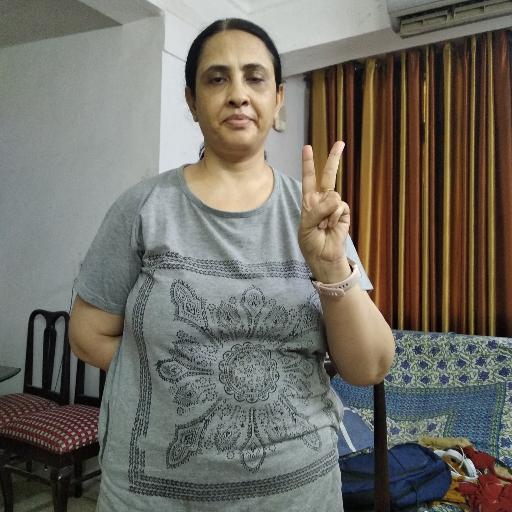peace: (295, 139, 351, 263)
